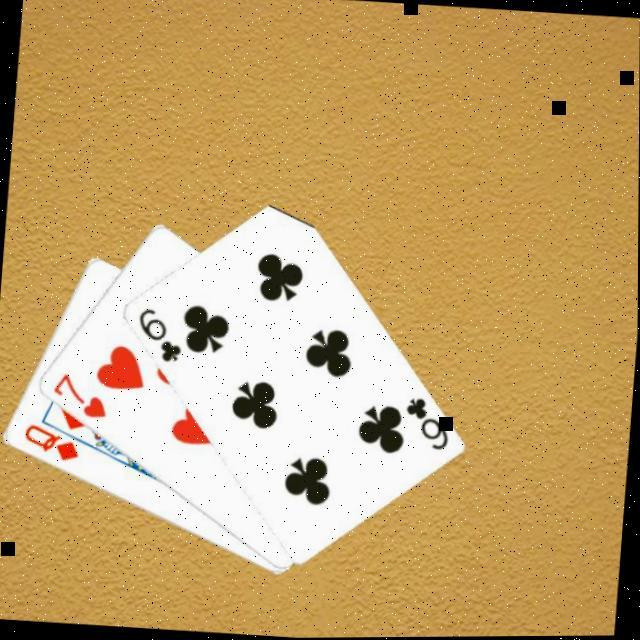6C: (132, 304, 188, 366), (400, 394, 456, 455)
7H: (48, 369, 112, 422)
QD: (19, 422, 84, 466)
